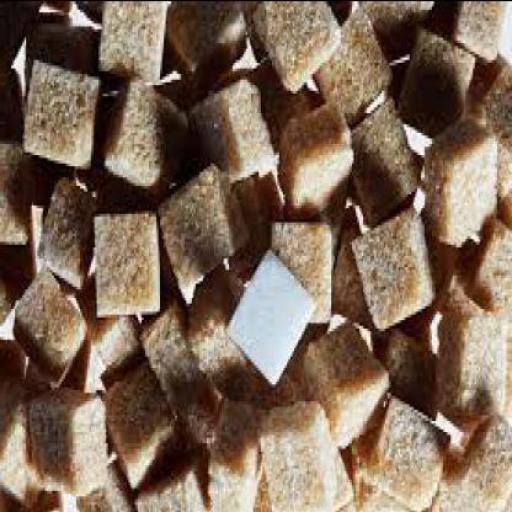biodegradable: (1, 1, 511, 510), (229, 243, 320, 381), (163, 159, 251, 300), (104, 70, 198, 193), (343, 87, 423, 227), (147, 307, 227, 445), (363, 389, 454, 509), (264, 398, 358, 510), (316, 1, 398, 123), (356, 204, 436, 328), (285, 87, 359, 221), (440, 272, 510, 412), (428, 109, 502, 241), (312, 316, 386, 442), (395, 22, 478, 134), (11, 263, 87, 383), (106, 356, 177, 484), (195, 78, 281, 177), (26, 53, 104, 162), (32, 384, 110, 490), (97, 204, 168, 316), (255, 2, 346, 88), (39, 170, 103, 282), (192, 268, 256, 380), (168, 1, 250, 84), (273, 218, 337, 322), (207, 398, 266, 510), (450, 408, 511, 510), (254, 50, 320, 143), (84, 272, 142, 372), (100, 2, 177, 76), (386, 324, 440, 423), (463, 214, 511, 318), (334, 218, 376, 327), (361, 0, 435, 59), (2, 375, 34, 509), (474, 52, 511, 160), (2, 134, 37, 246), (134, 462, 208, 510), (2, 218, 37, 314), (455, 1, 511, 57), (82, 459, 136, 510), (24, 344, 78, 392), (2, 330, 28, 380), (336, 450, 354, 510), (35, 487, 82, 509)
